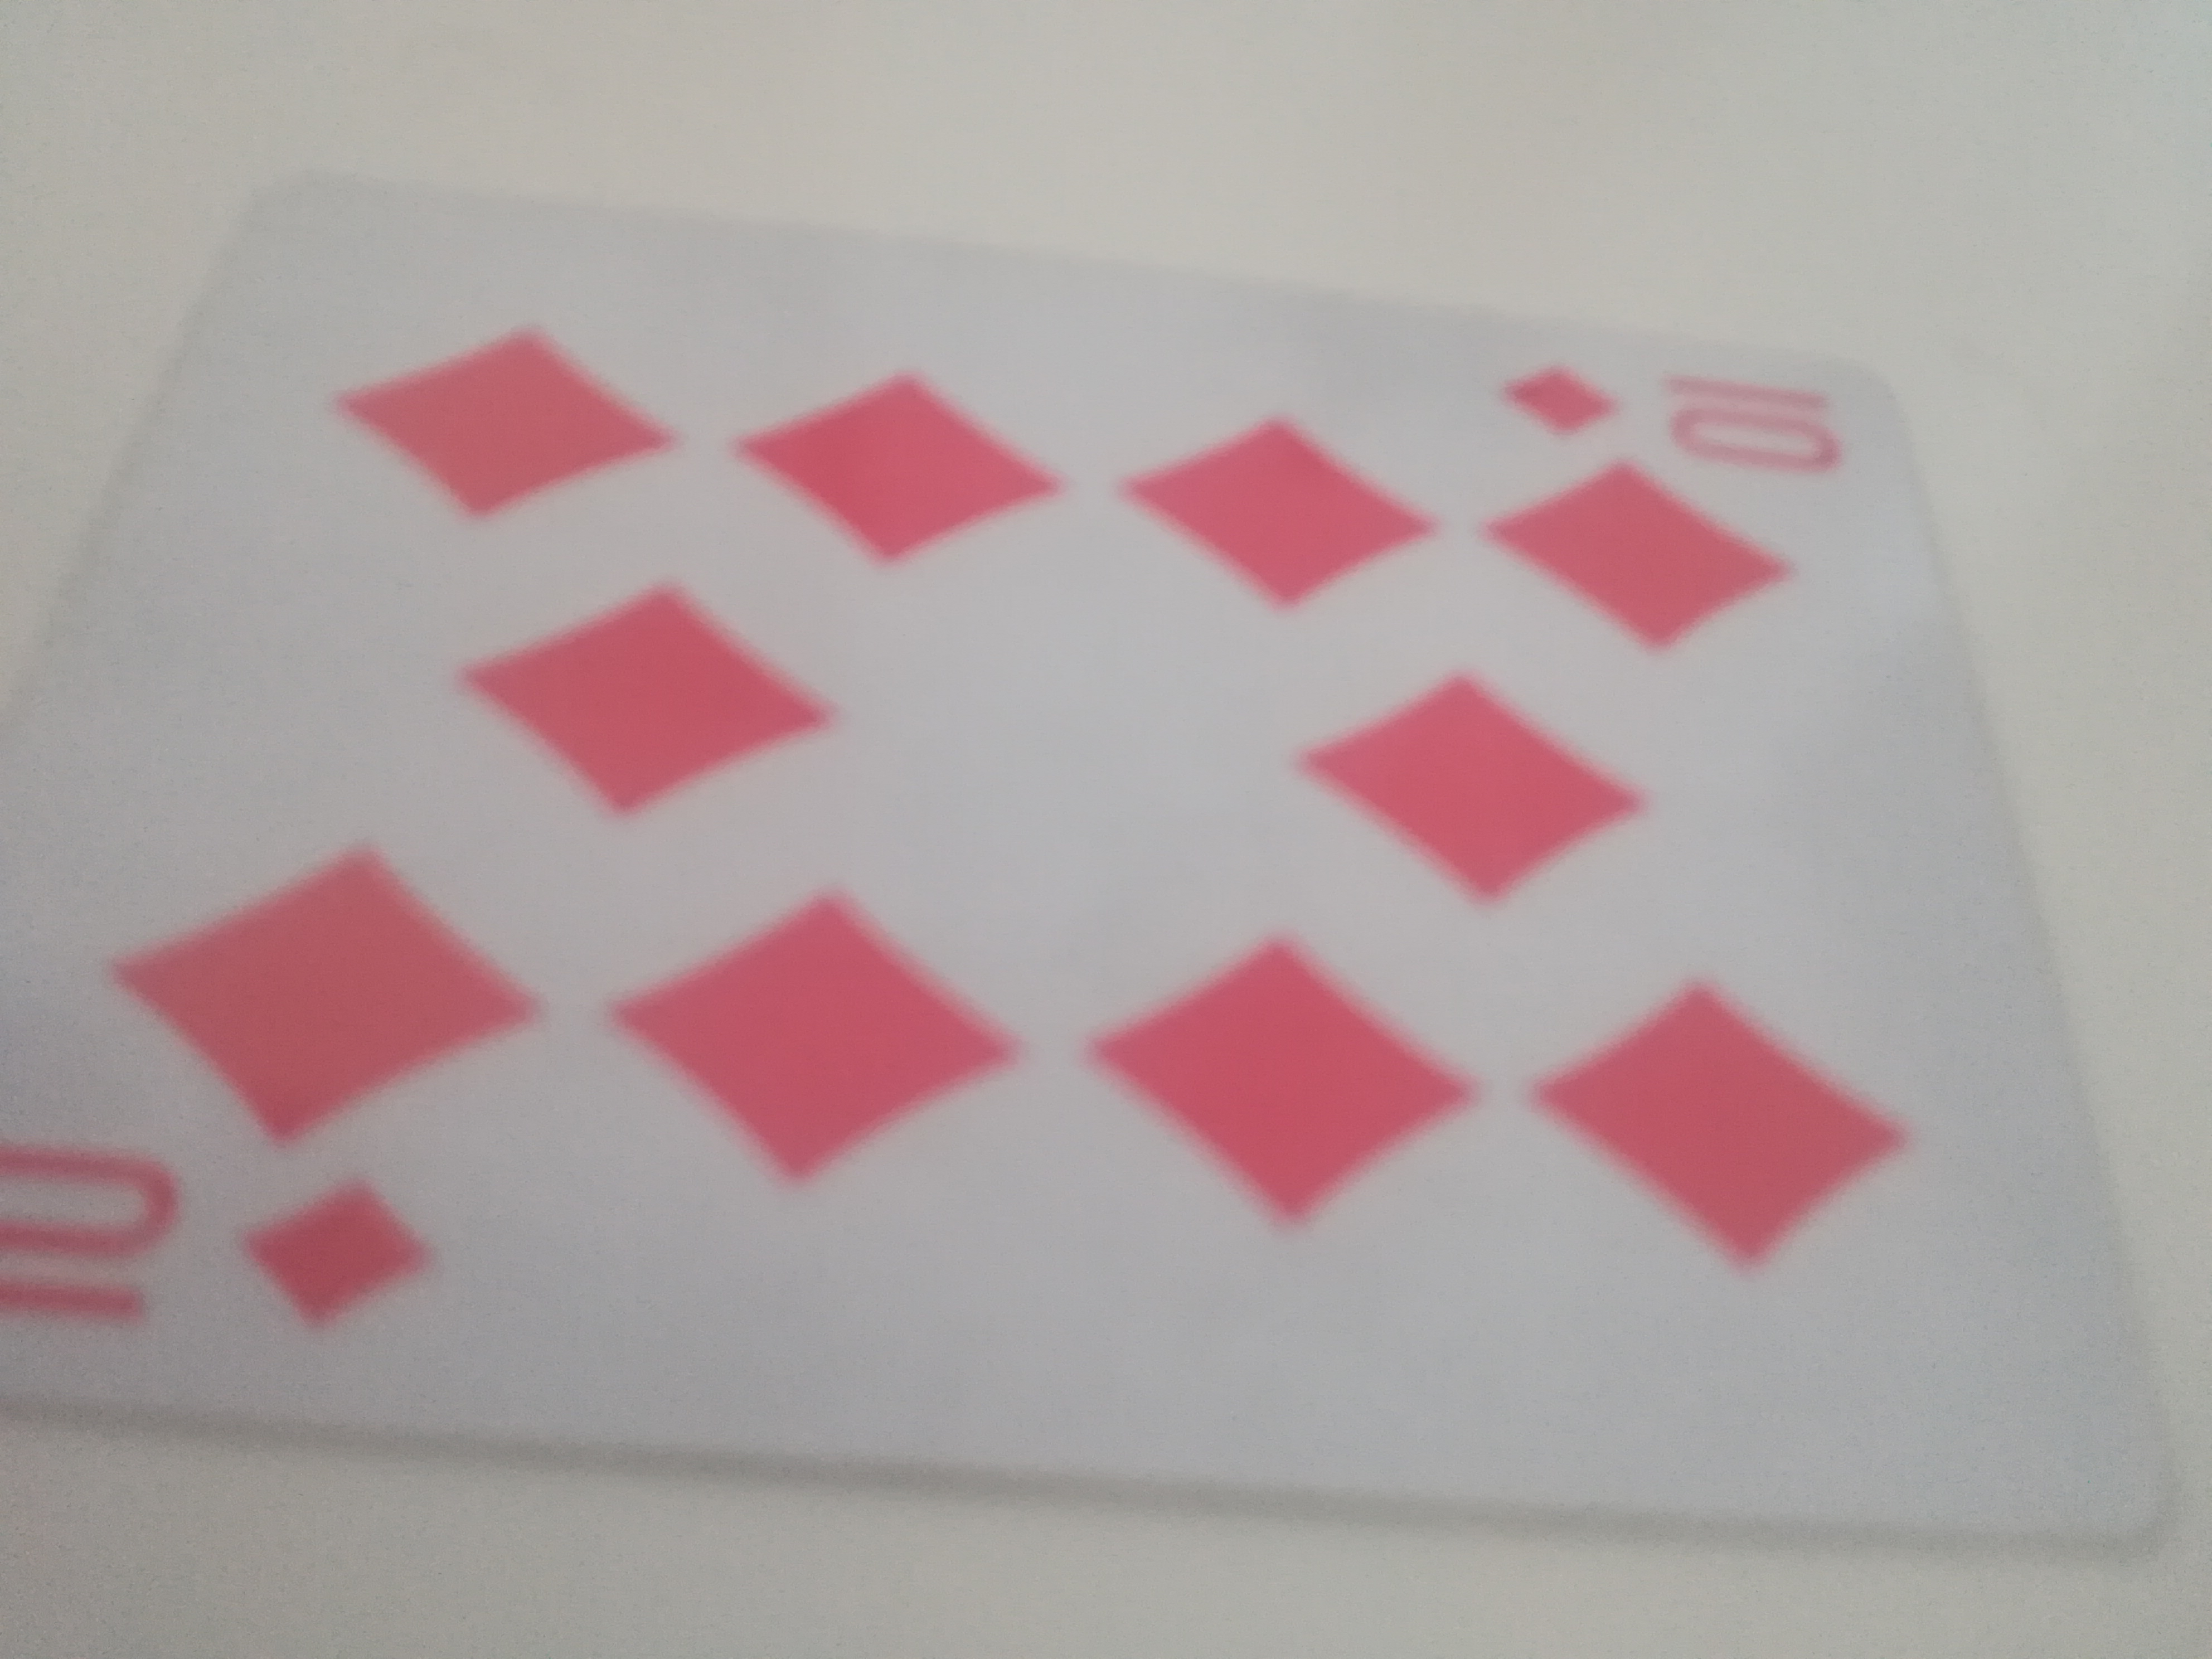10D: (0, 179, 2167, 1577)
